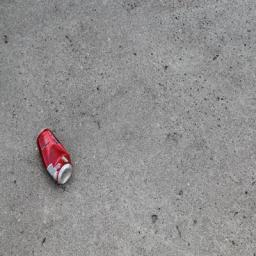FOD: (35, 127, 80, 189)
